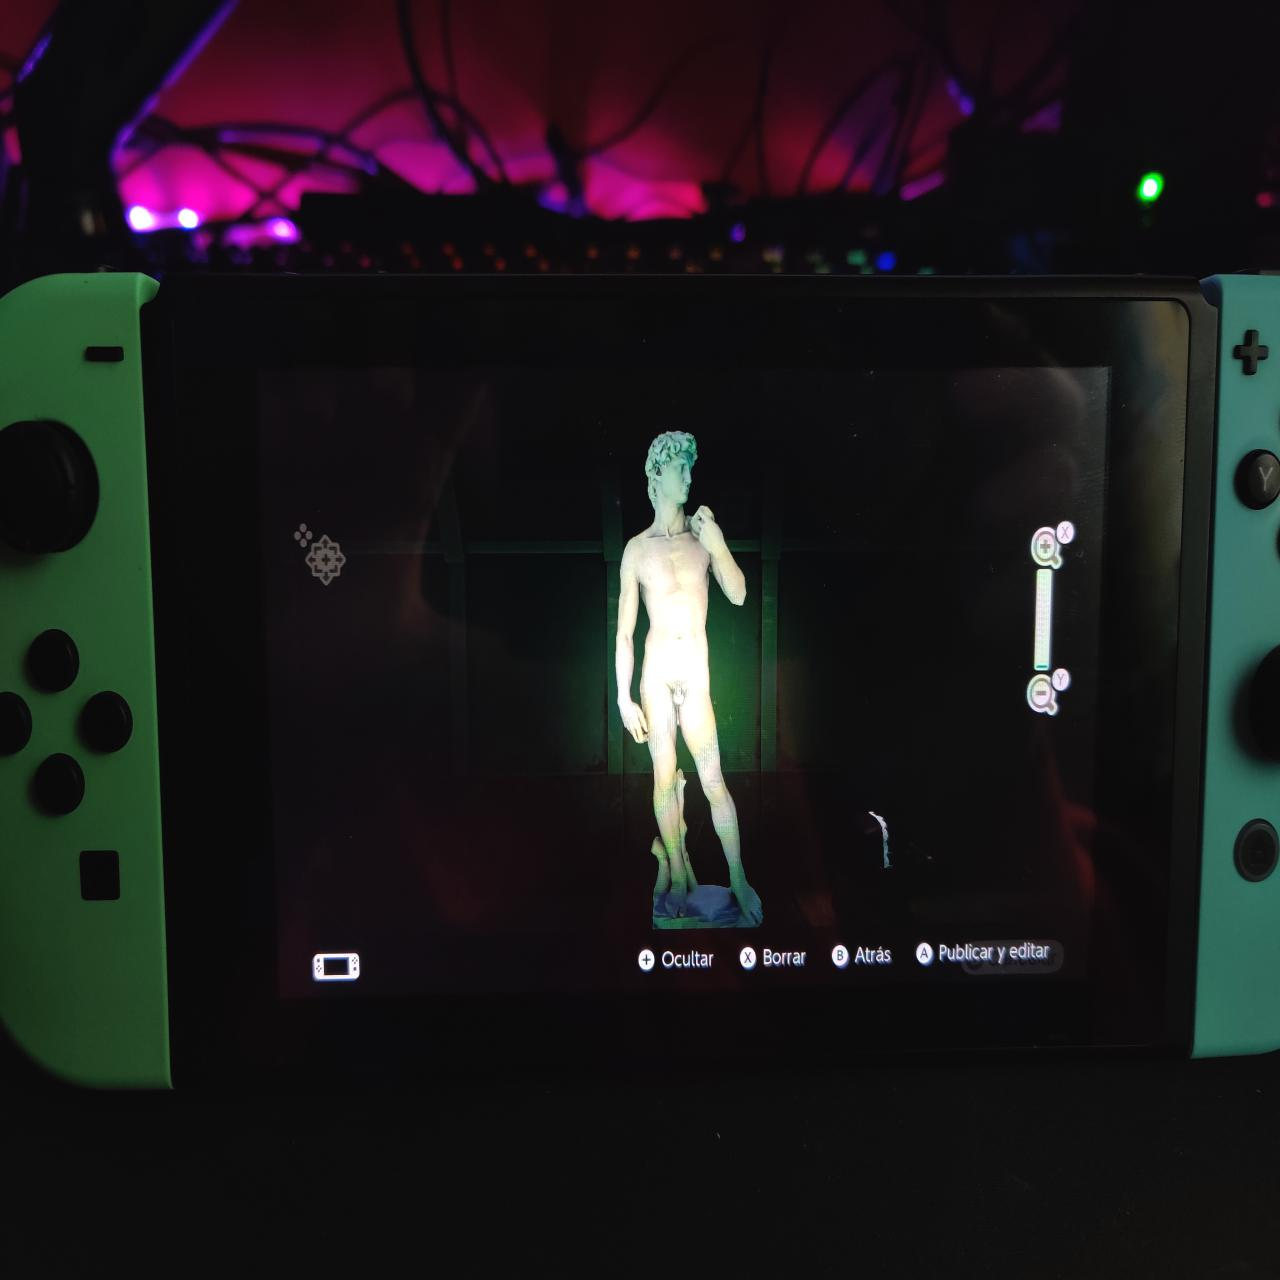David: (614, 423, 768, 930)
